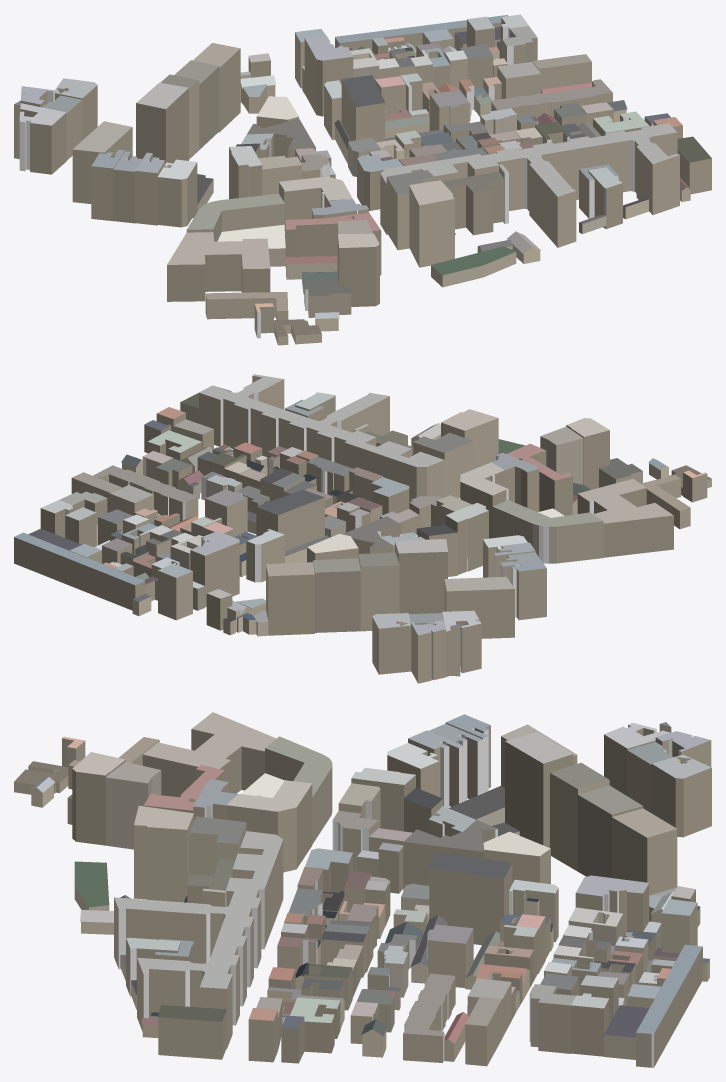
3 views of the same model, one above another, from view 1: azimuth 30°, elevation 25°; view 2: azimuth 150°, elevation 25°; view 3: azimuth 270°, elevation 25° (orthographic). The views are drawn at different scales.
Parts seen in each view (by area): view 1: tuile; view 2: tuile; view 3: tuile.
Boxes of the visible parts, <box> form: tuile: <box>14,14,711,345</box>; tuile: <box>14,374,711,683</box>; tuile: <box>14,712,711,1067</box>.
Bounding box in the file's own units: 273 × 40.16 × 261.
